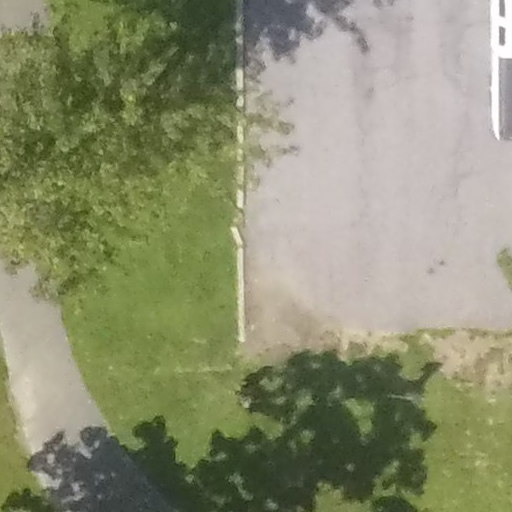street: (248, 1, 512, 355)
